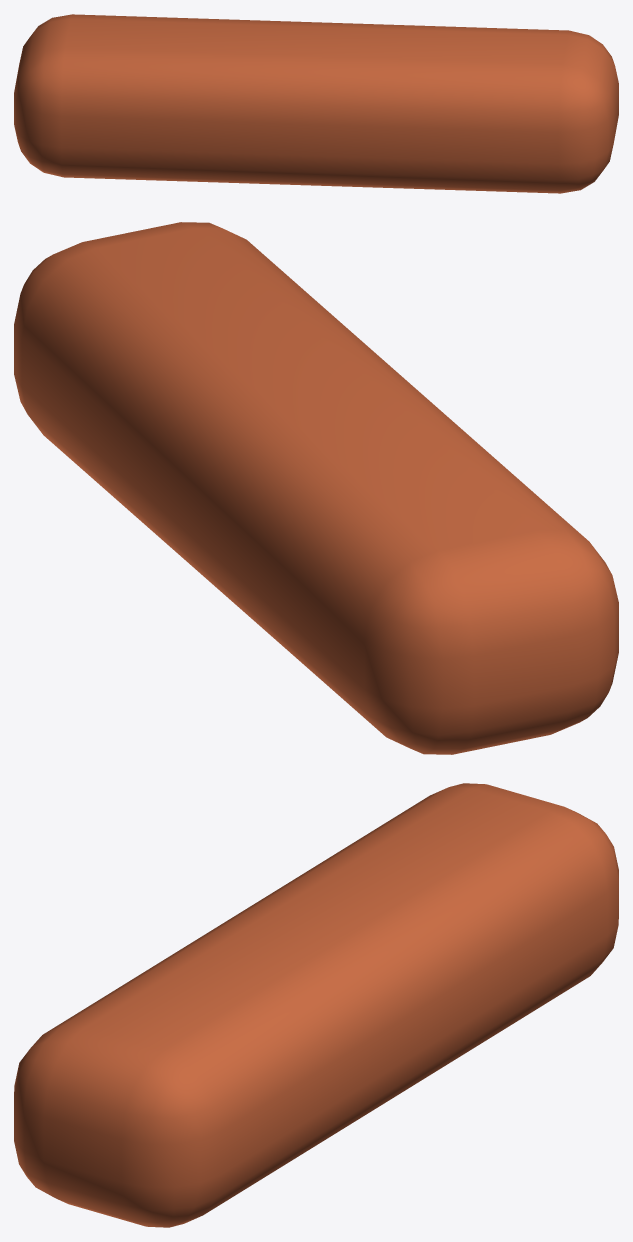
File: plunge_router_plunge_lock.glb
3 renders of one model, top to bottom at view 1: azimuth 30°, elevation 25°; view 2: azimuth 150°, elevation 25°; view 3: azimuth 270°, elevation 25°, orthographic. The views are drawn at different scales.
Parts seen in each view (by area): view 1: plunge_router_plunge_lock; view 2: plunge_router_plunge_lock; view 3: plunge_router_plunge_lock.
Boxes of the visible parts, x1=… form: plunge_router_plunge_lock: x1=14, y1=14, x2=618, y2=193; plunge_router_plunge_lock: x1=14, y1=222, x2=618, y2=754; plunge_router_plunge_lock: x1=14, y1=783, x2=618, y2=1227.
Size of the model in its own units: 0.0321 by 0.008 by 0.0256.
